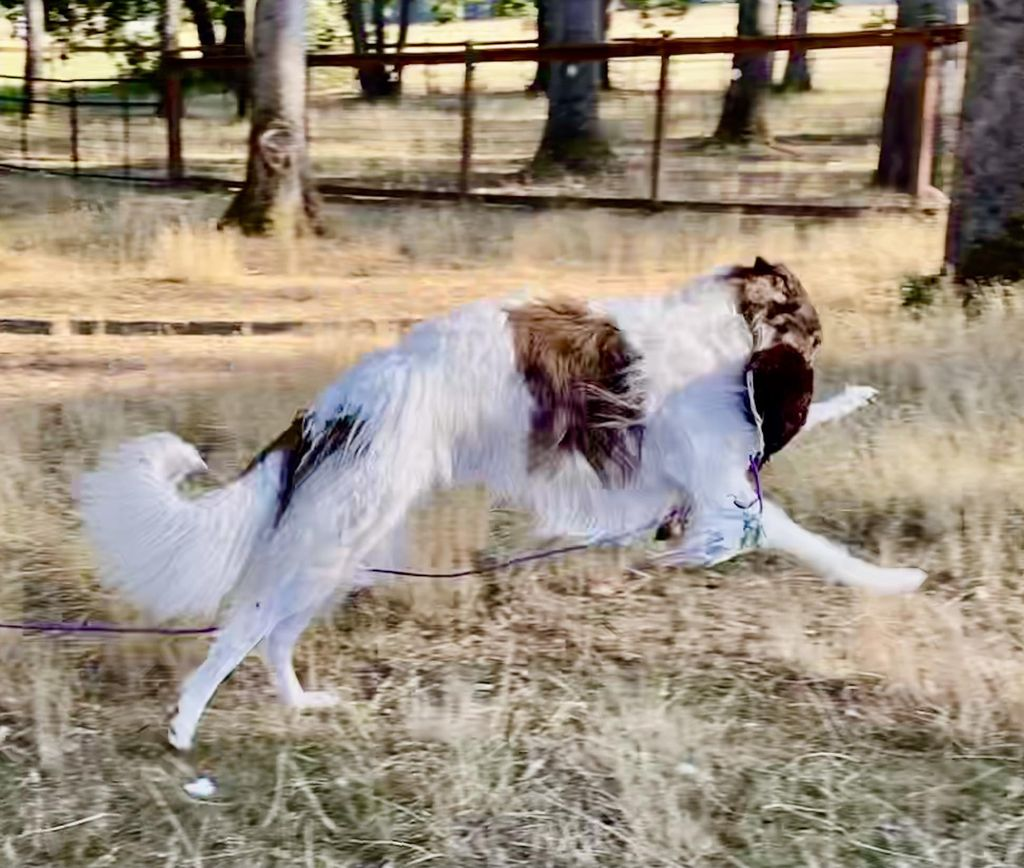borzoi: (66, 249, 946, 751)
